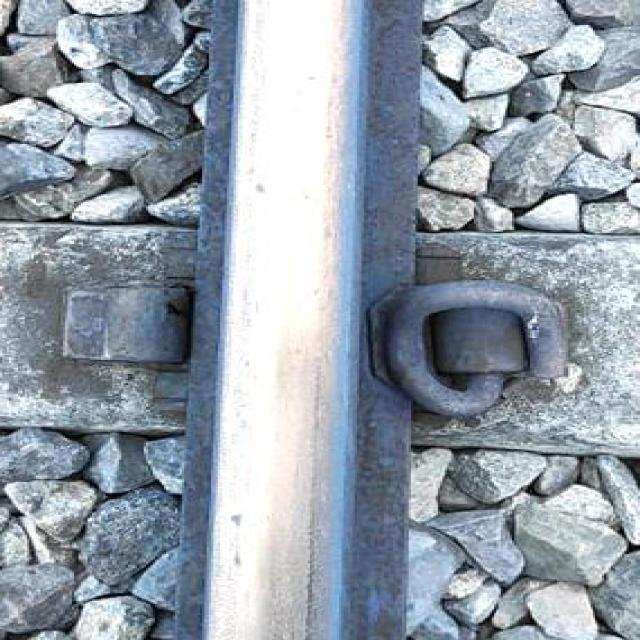Good Fasteners: (371, 273, 634, 428)
Missing Fastener: (49, 279, 194, 385)
